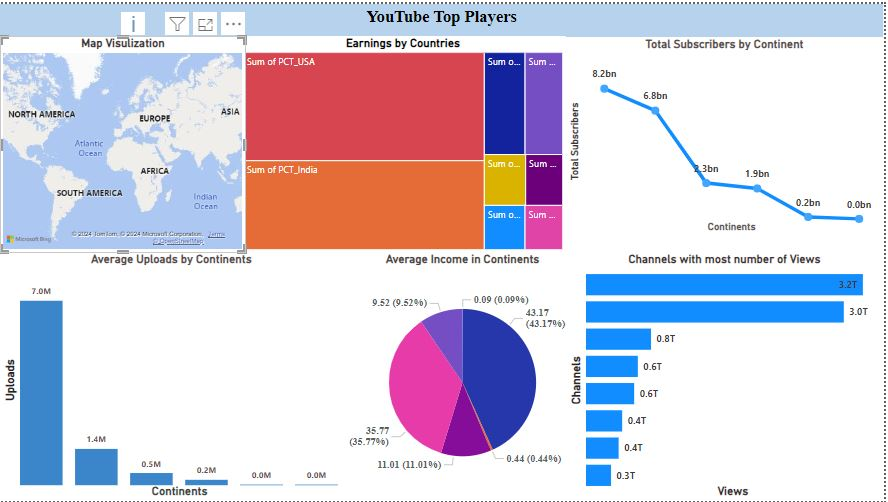

What the dashboard file says about the page in this screenshot:
{"tool":"powerbi","page":{"name":"Page 1","canvas":[1280,720],"ordinal":0},"visuals":[{"type":"textbox","box":[0,79.2,933.1,79.2],"z":0},{"type":"textbox","box":[0,0,1280.2,47.5],"z":1000},{"type":"pieChart","title":"Average Income in Continents","fields":{"Y":["Avg(percentage_salaries.Earning_In_Africa)","Avg(percentage_salaries.Earning_In_Asia)","Avg(percentage_salaries.Earning_In_Australia_and_Oceania)","Avg(percentage_salaries.Earning_In_Europe)","Sum(percentage_salaries.Earning_In_North_America)","Sum(percentage_salaries.Earning_In_South_America)"]},"box":[497.1,359.4,346.4,359.4],"z":2000},{"type":"columnChart","title":"Average Uploads by Continents","fields":{"Y":["Avg(Yotube_Top_players.Total_Uploads)"],"Category":["Yotube_Top_players.continents"]},"box":[0,360,496.8,360],"z":3000},{"type":"lineChart","title":"Total Subscribers by Continent","fields":{"Category":["Yotube_Top_players.continents"],"Y":["Sum(Yotube_Top_players.Total_subs)"]},"box":[820.3,47.8,459.4,288.4],"z":4000},{"type":"clusteredBarChart","title":"Channels with most number of Views","fields":{"Category":["channels_with_High_views.channel_type"],"Y":["Sum(channels_with_High_views.Views)"]},"box":[820.3,359.4,459.4,360.9],"z":5000},{"type":"filledMap","title":"Map Visulization","fields":{"Series":["Continents.Column1"]},"box":[0,46.2,356.4,314.1],"z":6000},{"type":"treemap","title":"Earnings by Countries","fields":{"Values":["Sum(top8_countries_High_pay.PCT_Argentina)","Sum(top8_countries_High_pay.PCT_Brazil)","Sum(top8_countries_High_pay.PCT_India)","Sum(top8_countries_High_pay.PCT_Pak)","Sum(top8_countries_High_pay.PCT_Russia)","Sum(top8_countries_High_pay.PCT_South_Korea)","Sum(top8_countries_High_pay.PCT_UK)","Sum(top8_countries_High_pay.PCT_USA)"]},"box":[347.8,46.4,472.5,314.5],"z":7000}]}

Visuals, with their boxes in screenshot pixels (x1, y1, x2, y2):
textbox: (x1=0, y1=56, x2=636, y2=112)
textbox: (x1=0, y1=0, x2=883, y2=34)
"Average Income in Continents" pieChart: (x1=327, y1=255, x2=573, y2=501)
"Average Uploads by Continents" columnChart: (x1=0, y1=255, x2=327, y2=501)
"Total Subscribers by Continent" lineChart: (x1=556, y1=34, x2=882, y2=238)
"Channels with most number of Views" clusteredBarChart: (x1=556, y1=255, x2=882, y2=501)
"Map Visulization" filledMap: (x1=0, y1=33, x2=227, y2=256)
"Earnings by Countries" treemap: (x1=221, y1=33, x2=556, y2=256)
